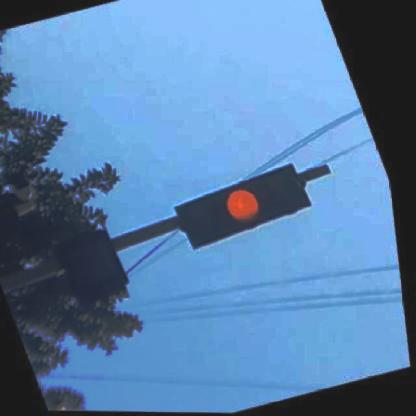Traffic Light -Yellow-: (172, 160, 327, 253)
